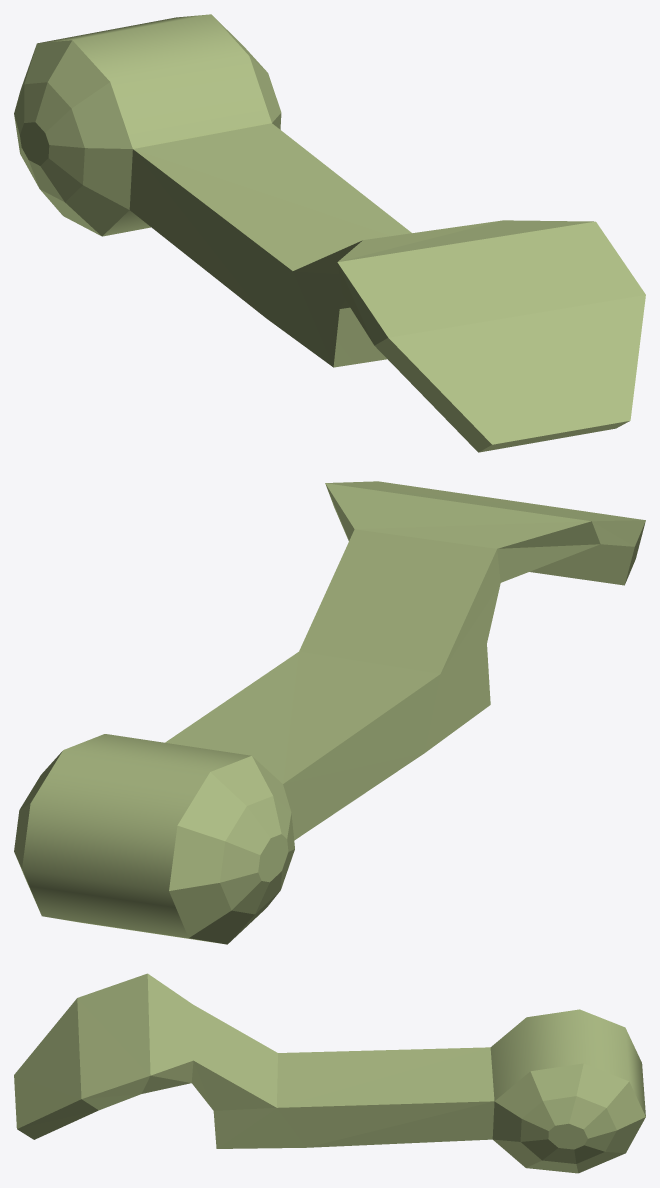
The model's file is SpiderLegRightFrontA.FBX.
3 views of the same model, one above another, from view 1: azimuth 30°, elevation 25°; view 2: azimuth 150°, elevation 25°; view 3: azimuth 270°, elevation 25° (orthographic). The views are drawn at different scales.
Parts seen in each view (by area): view 1: SpiderLegRightFrontA; view 2: SpiderLegRightFrontA; view 3: SpiderLegRightFrontA.
Part boxes in pixels (<box>): SpiderLegRightFrontA: <box>14,14,645,452</box>; SpiderLegRightFrontA: <box>14,481,645,944</box>; SpiderLegRightFrontA: <box>14,973,645,1173</box>.
Bounding box in the file's own units: 89.38 × 276 × 67.07.
